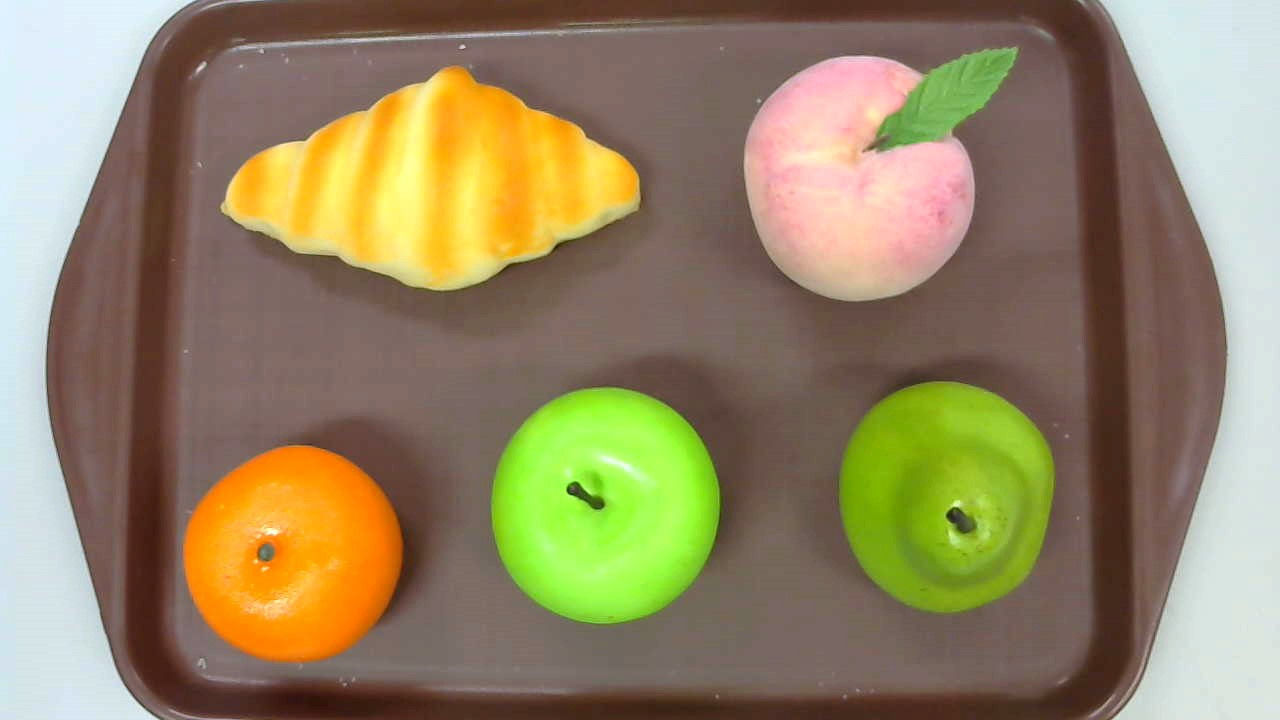croissant: (219, 65, 640, 292)
green apple: (490, 386, 722, 625)
green pear: (838, 380, 1055, 615)
orange: (182, 444, 404, 662)
peach: (743, 47, 1017, 303)
